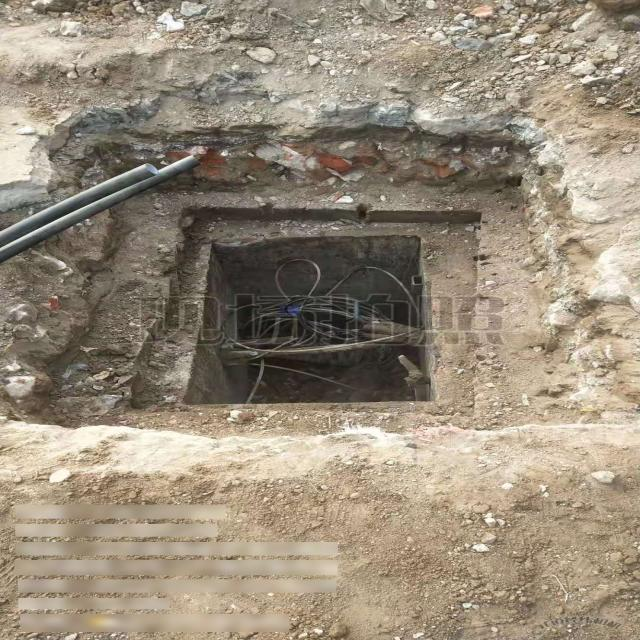Uncovered: (178, 214, 437, 406)
